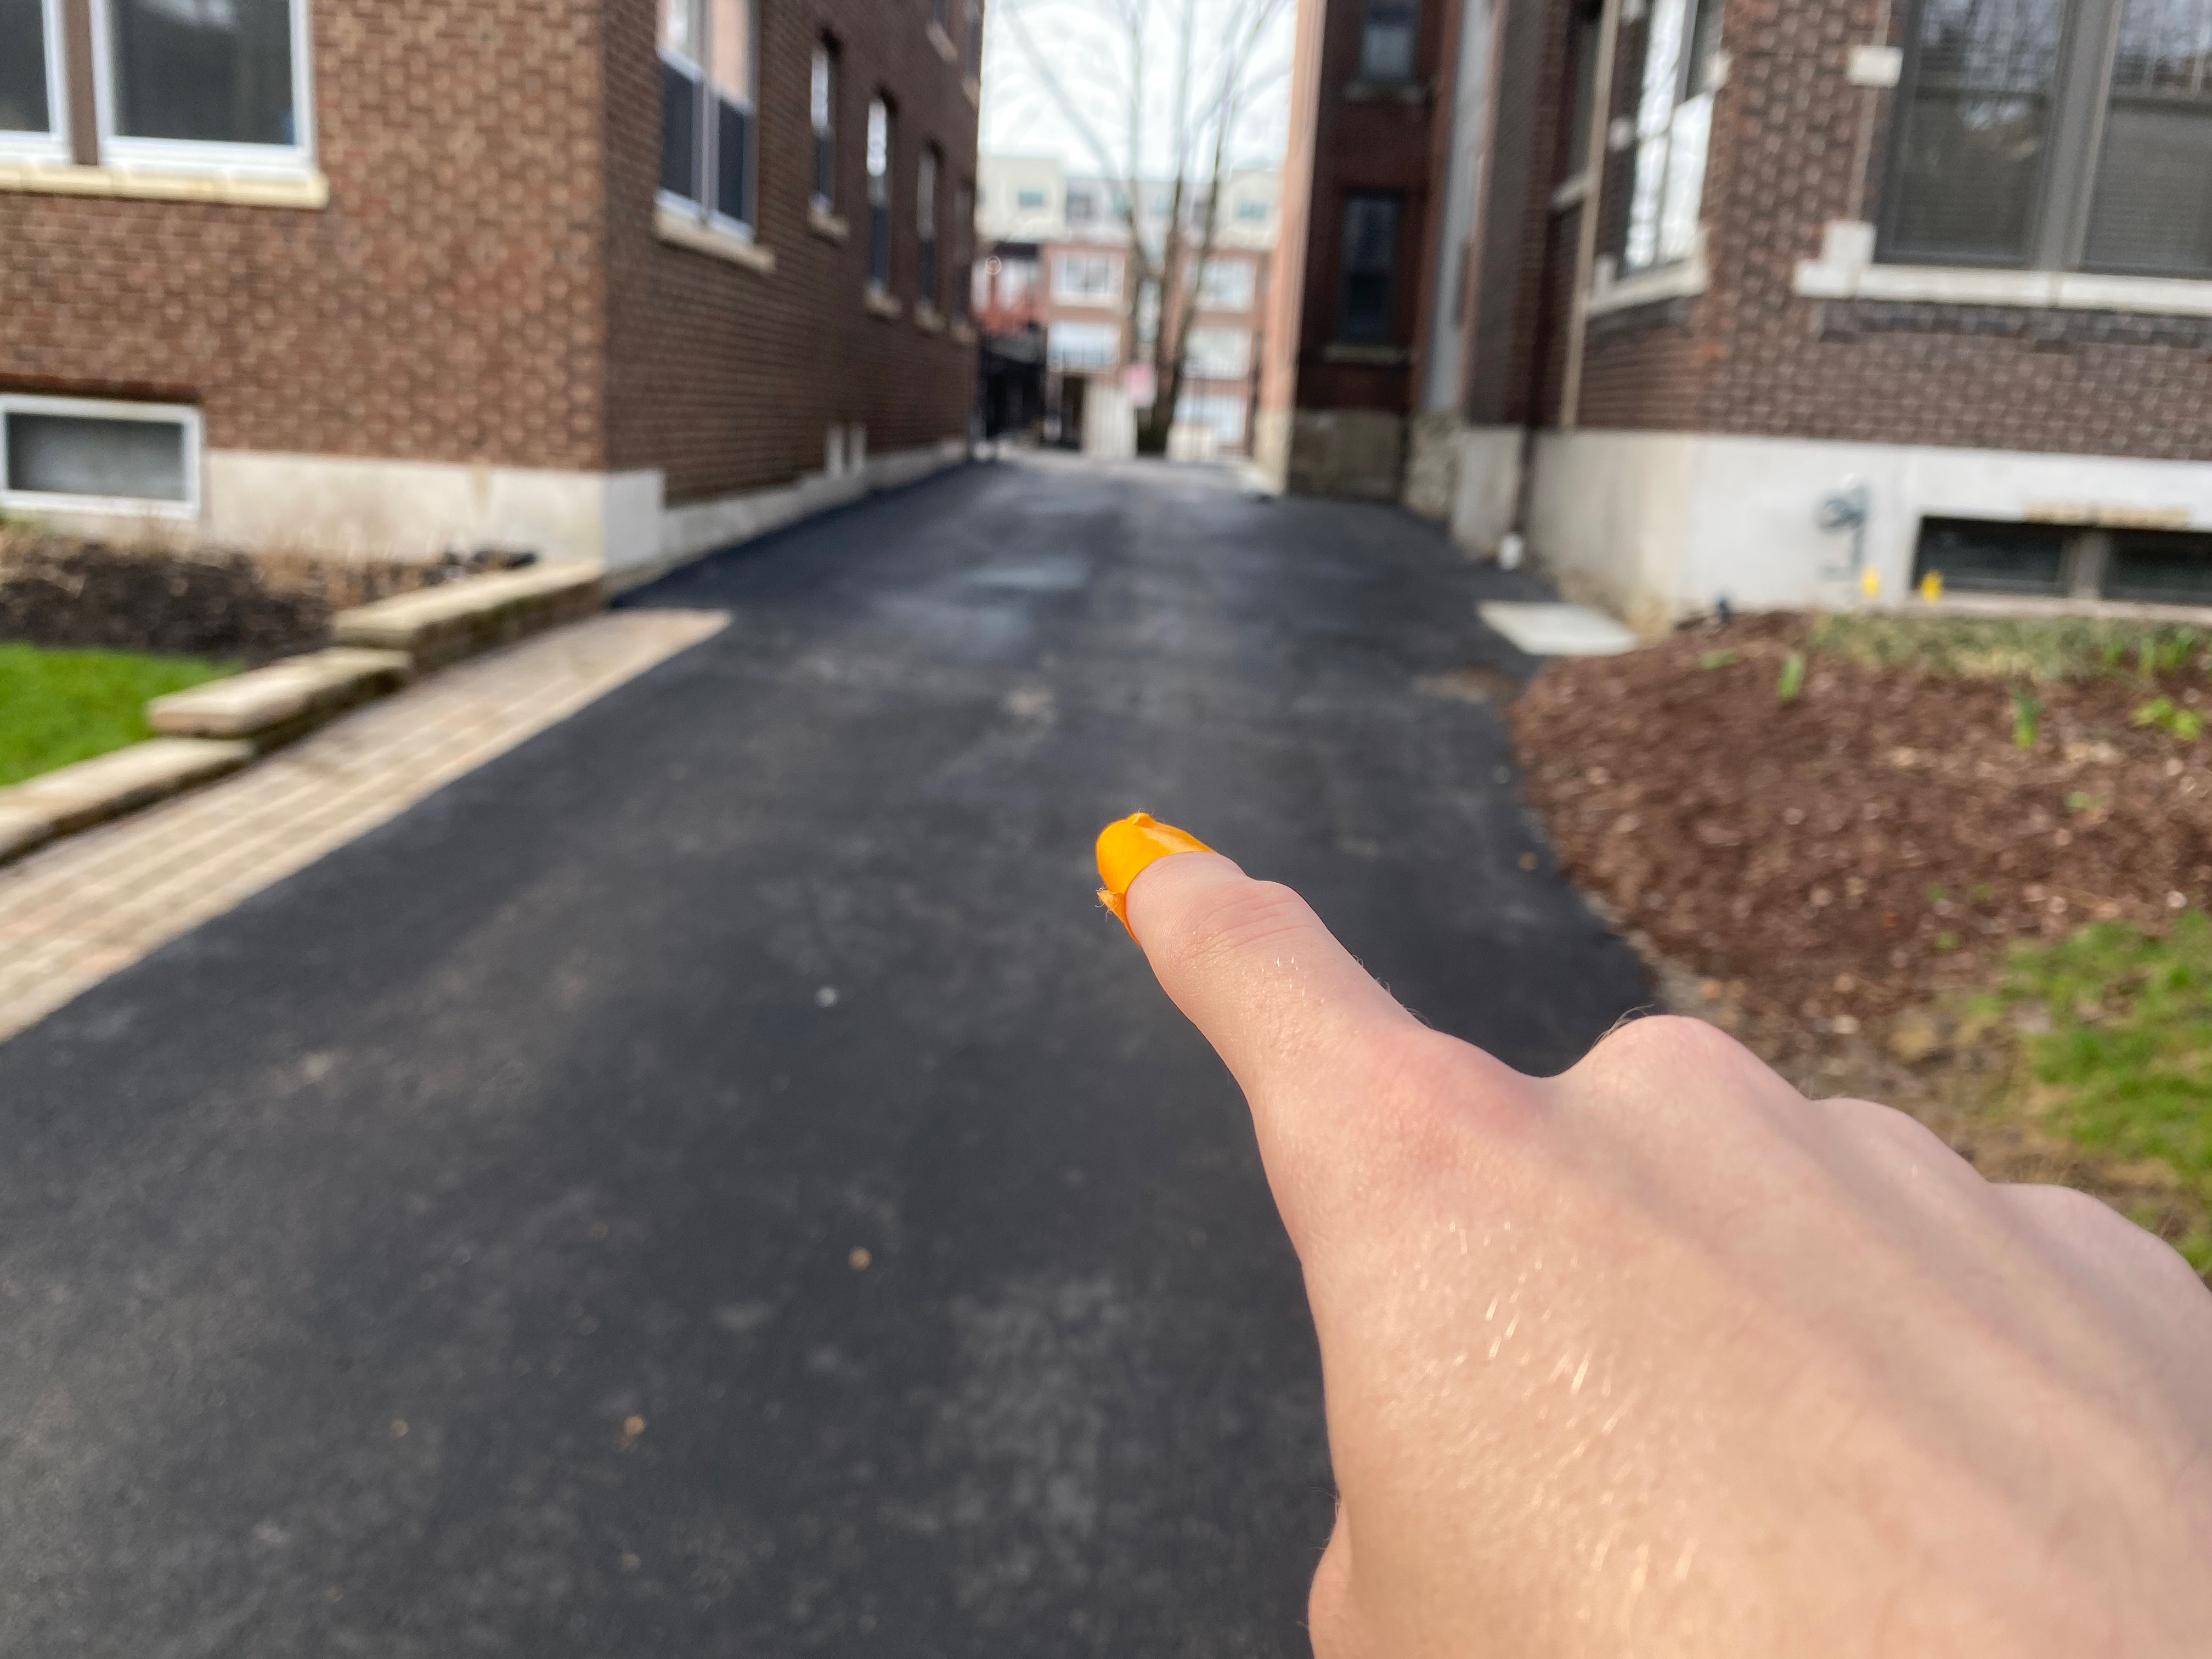fingertip: (1071, 810, 1264, 931)
